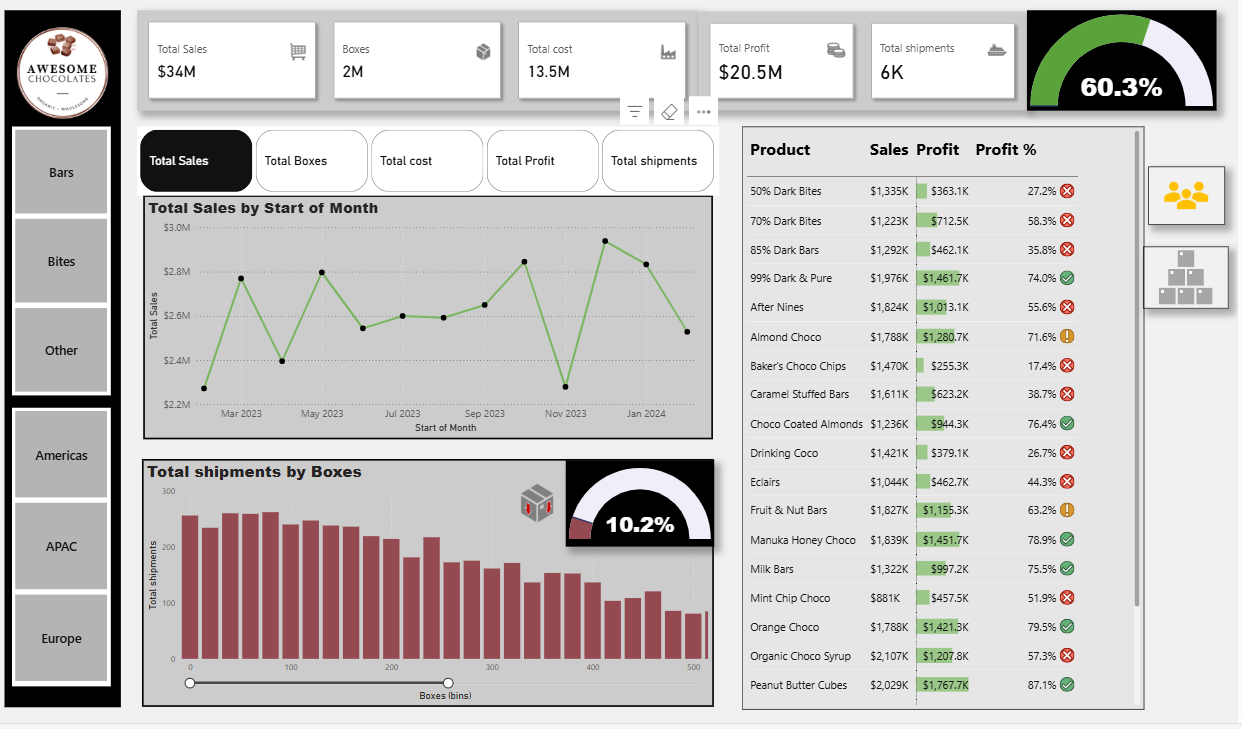

Layout of this report page (visuals, bound fields, positions):
{"tool":"powerbi","page":{"name":"Report Page","canvas":[1920,1080],"ordinal":0},"visuals":[{"type":"shape","box":[91.7,23.8,172.4,1032.7],"z":0},{"type":"cardVisual","fields":{"Data":["_Measures.Total Sales","_Measures.Total Boxes","_Measures.Total cost"]},"box":[289.8,23.8,830.9,148.6],"z":1000},{"type":"cardVisual","fields":{"Data":["_Measures.Total Profit","_Measures.Total shipments"]},"box":[1120.7,25.7,486.1,146.7],"z":2000},{"type":"gauge","fields":{"Y":["_Measures.Profit %"]},"box":[1606.8,23.8,280.6,148.6],"z":3000},{"type":"image","box":[91.7,44,172.4,144.9],"z":4000},{"type":"lineChart","fields":{"Y":["_Measures.Total cost"],"Category":["calendar.Start of Month"]},"box":[299,299,843.8,361.3],"z":5000},{"type":"advancedSlicerVisual","fields":{"Values":["Measure Selector 2.Measure Selector"]},"box":[289.8,196.3,862.1,102.7],"z":6000},{"type":"columnChart","title":"Total shipments by Boxes ","fields":{"Category":["shipments.Boxes (bins)"],"Y":["_Measures.Total shipments"]},"box":[297.1,689.7,847.4,366.8],"z":7000},{"type":"gauge","fields":{"Y":["_Measures.LBS %"]},"box":[924.5,691.5,220.1,128.4],"z":8000},{"type":"image","box":[836.4,715.4,89.9,78.9],"z":9000},{"type":"tableEx","title":"People table","fields":{"Values":["people.Picture","shipments.Sales Person","_Measures.Total Sales","_Measures.Total Profit","_Measures.Profit %"]},"box":[1184.2,197.4,597.7,862.1],"z":10000},{"type":"image","title":"People icon","box":[1786.6,255,113.7,86.2],"z":12000},{"type":"image","title":"Product icon","box":[1779.2,374.2,126.6,91.7],"z":13000},{"type":"advancedSlicerVisual","fields":{"Values":["products.Category"]},"box":[104.6,196.3,146.7,398],"z":14000},{"type":"advancedSlicerVisual","fields":{"Values":["locations.Region"]},"box":[104.6,612.6,146.7,412.7],"z":15000}]}

Visuals, with their boxes in screenshot pixels (x1, y1, x2, y2):
shape: (2,13,116,696)
cardVisual - _Measures.Total Sales x _Measures.Total Boxes: (133,13,683,111)
cardVisual - _Measures.Total Profit x _Measures.Total shipments: (683,14,1004,111)
gauge - _Measures.Profit %: (1004,13,1190,111)
image: (2,26,116,122)
lineChart - _Measures.Total cost x calendar.Start of Month: (140,195,698,433)
advancedSlicerVisual - Measure Selector 2.Measure Selector: (133,127,704,195)
"Total shipments by Boxes " columnChart: (138,453,699,696)
gauge - _Measures.LBS %: (553,454,699,539)
image: (495,470,554,522)
"People table" tableEx: (725,127,1120,698)
"People icon" image: (1123,165,1199,222)
"Product icon" image: (1119,244,1202,305)
advancedSlicerVisual - products.Category: (11,127,108,390)
advancedSlicerVisual - locations.Region: (11,402,108,675)
